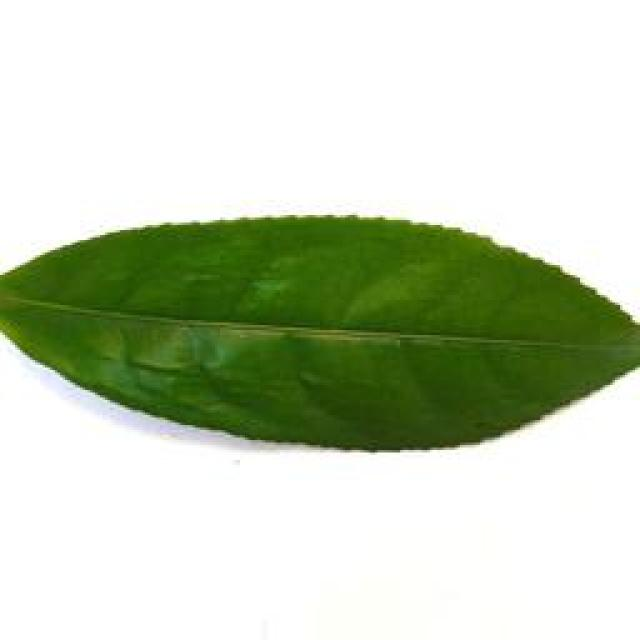Healthy: (0, 200, 640, 468)
